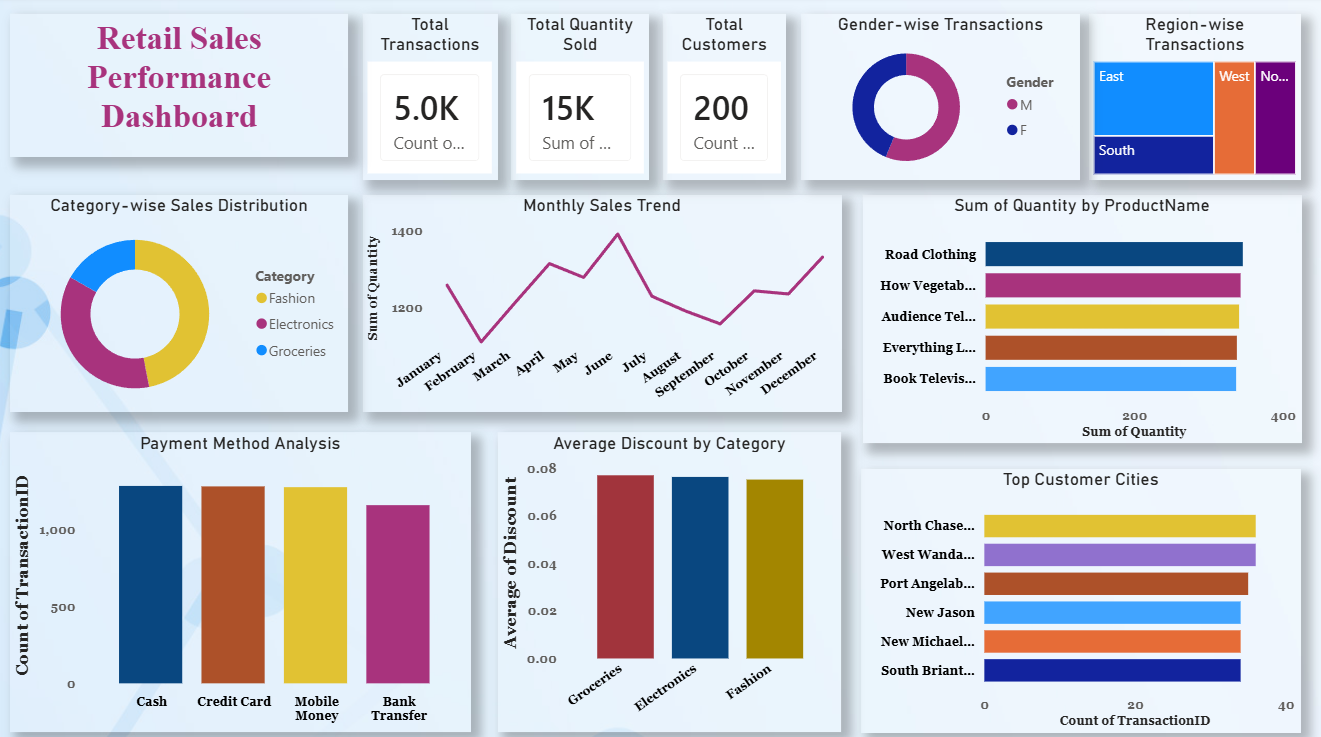

The page's visual inventory and layout, read from the dashboard file:
{"tool":"powerbi","page":{"name":"Page 1","canvas":[1280,720],"ordinal":0},"visuals":[{"type":"cardVisual","title":"Total Transactions","fields":{"Data":["CountNonNull(Transactions.TransactionID)"]},"box":[349.9,16.5,130.4,160.5],"z":0},{"type":"cardVisual","title":"Total Quantity Sold","fields":{"Data":["Sum(Transactions.Quantity)"]},"box":[494,16.5,133.1,160.5],"z":1000},{"type":"cardVisual","title":"Total Customers","fields":{"Data":["Count(Transactions.CustomerID)"]},"box":[639.5,16.5,119.4,160.5],"z":2000},{"type":"lineChart","title":"Monthly Sales Trend","fields":{"Category":["Transactions.Date.Variation.Date Hierarchy.Month"],"Y":["Sum(Transactions.Quantity)"]},"box":[349.9,192.1,462.4,209.9],"z":3000},{"type":"clusteredColumnChart","title":"Payment Method Analysis","fields":{"Category":["Transactions.PaymentMethod"],"Y":["CountNonNull(Transactions.TransactionID)"]},"box":[9.6,421.3,444.6,289.5],"z":4000},{"type":"clusteredBarChart","fields":{"Y":["Sum(Transactions.Quantity)"],"Category":["Products.ProductName"]},"box":[832.9,192.1,424,240.1],"z":5000},{"type":"donutChart","title":"Category-wise Sales Distribution","fields":{"Category":["Products.Category"],"Y":["Sum(Transactions.Quantity)"]},"box":[9.6,192.1,326.6,209.9],"z":6000},{"type":"treemap","title":"Region-wise Transactions","fields":{"Group":["Stores.Region"],"Values":["CountNonNull(Transactions.TransactionID)"]},"box":[1050.8,16.9,205.1,160.5],"z":7000},{"type":"donutChart","title":"Gender-wise Transactions","fields":{"Category":["Customers.Gender"],"Y":["CountNonNull(Transactions.TransactionID)"]},"box":[773.9,16.5,269,160.5],"z":8000},{"type":"clusteredBarChart","title":"Top Customer Cities","fields":{"Category":["Customers.City"],"Y":["CountNonNull(Transactions.TransactionID)"]},"box":[831.6,455.6,424,255.2],"z":9000},{"type":"clusteredColumnChart","title":"Average Discount by Category","fields":{"Category":["Products.Category"],"Y":["Avg(Transactions.Discount)"]},"box":[480.3,421.3,332.1,289.5],"z":10000},{"type":"textbox","box":[9.6,16.5,326.6,138.6],"z":11000}]}

Visuals, with their boxes in screenshot pixels (x1, y1, x2, y2), scaled from the page's 1280x720 canvas onto the 1321x737 screenshot:
"Total Transactions" cardVisual: 361/17/496/181
"Total Quantity Sold" cardVisual: 510/17/647/181
"Total Customers" cardVisual: 660/17/783/181
"Monthly Sales Trend" lineChart: 361/197/838/411
"Payment Method Analysis" clusteredColumnChart: 10/431/469/728
clusteredBarChart - Sum(Transactions.Quantity) x Products.ProductName: 860/197/1297/442
"Category-wise Sales Distribution" donutChart: 10/197/347/411
"Region-wise Transactions" treemap: 1084/17/1296/182
"Gender-wise Transactions" donutChart: 799/17/1076/181
"Top Customer Cities" clusteredBarChart: 858/466/1296/728
"Average Discount by Category" clusteredColumnChart: 496/431/838/728
textbox: 10/17/347/159
